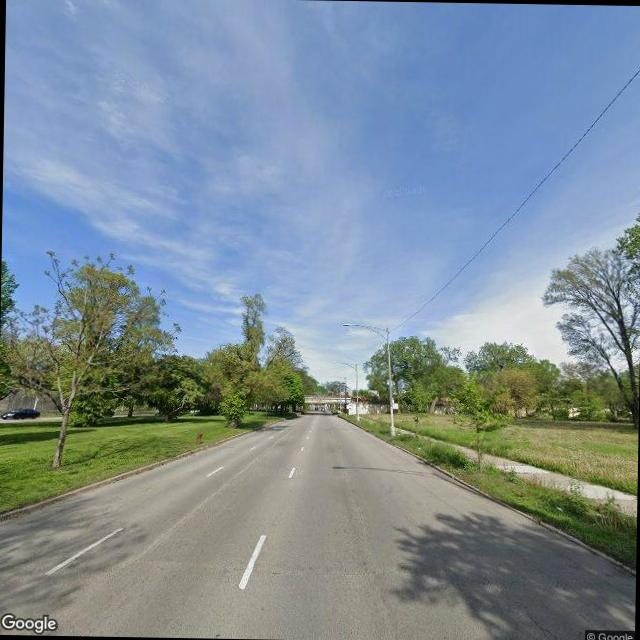crack: (476, 574, 559, 640)
